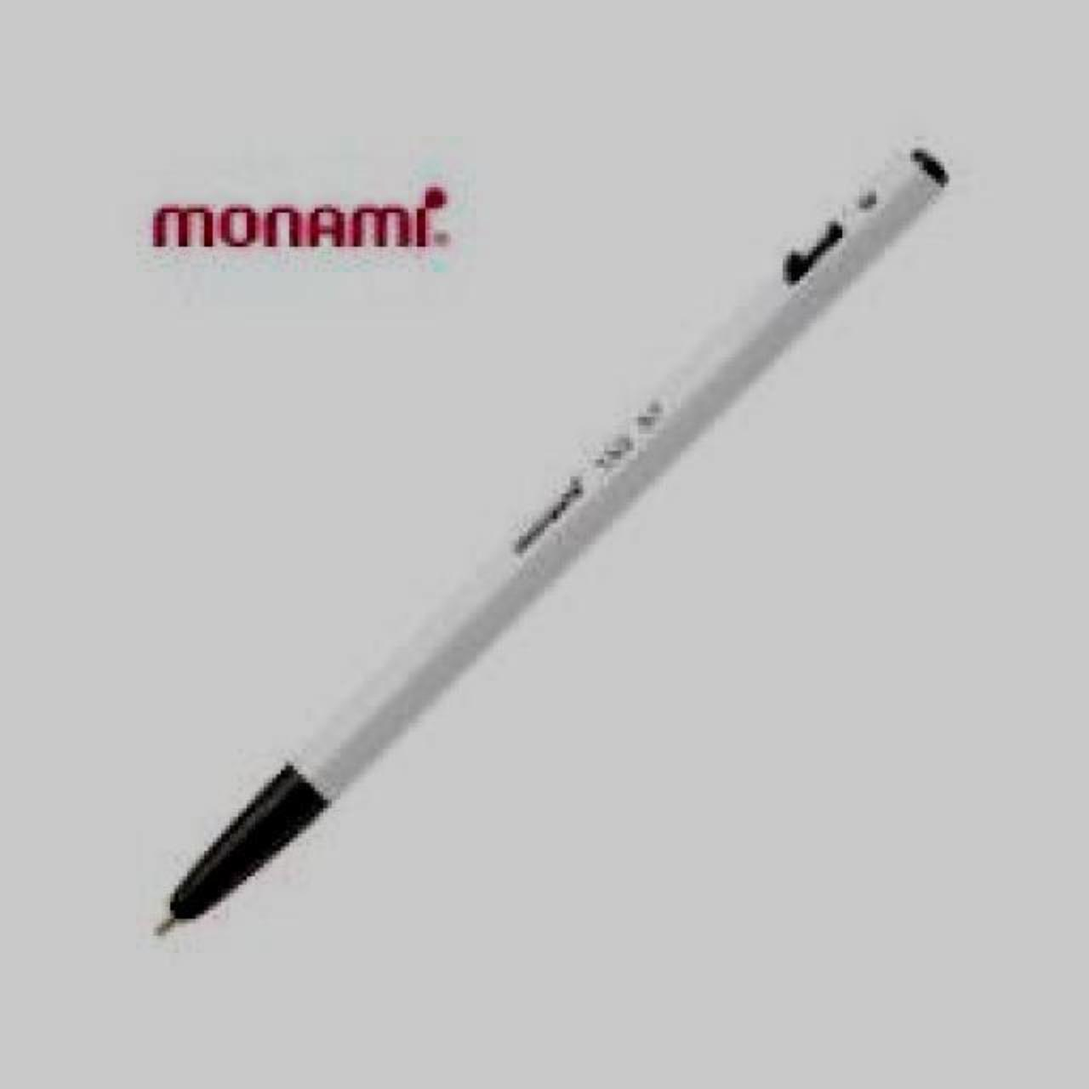pen: (145, 141, 953, 949)
